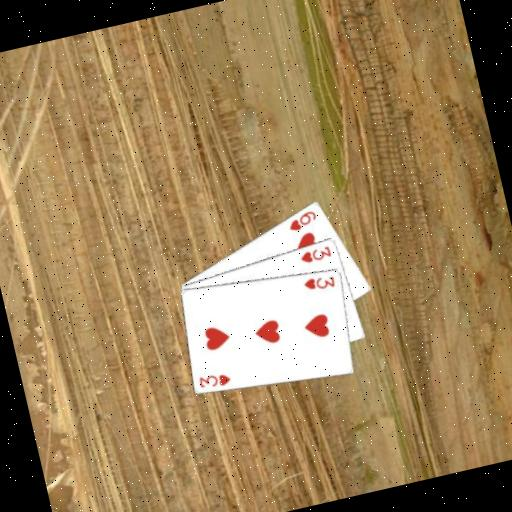3H: (300, 270, 338, 296), (195, 368, 233, 392), (296, 243, 334, 266)
6H: (284, 207, 320, 234)
